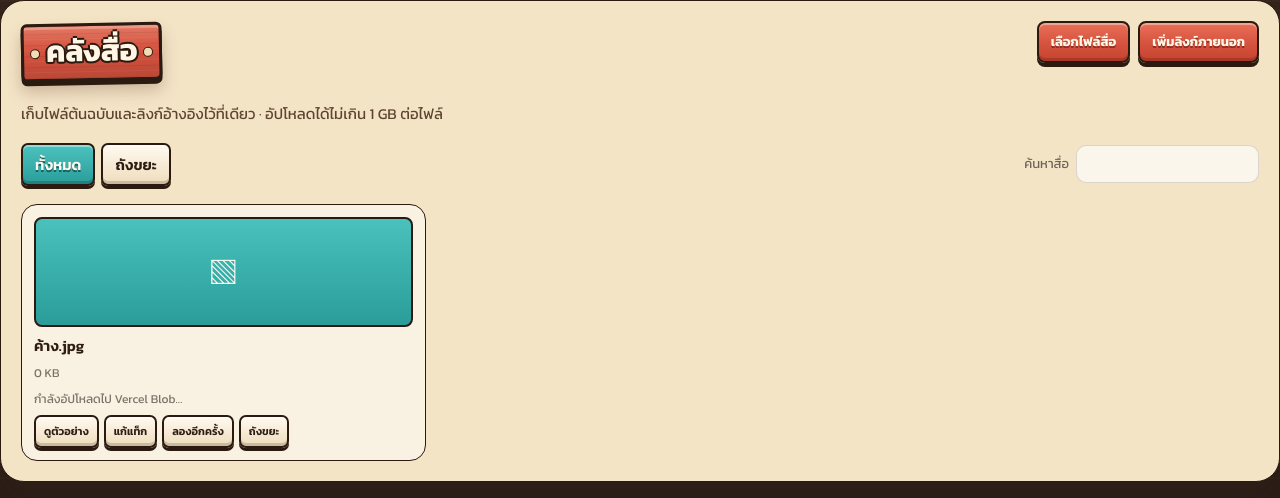
Test: MediaLibraryWorkspace › retries an upload that was persisted as uploading
The width and height of the screenshot is (1280, 498).
Click the button with aria-label "ลองอัปโหลด ค้าง.jpg อีกครั้ง" at (198,432), box [162,415,234,448]
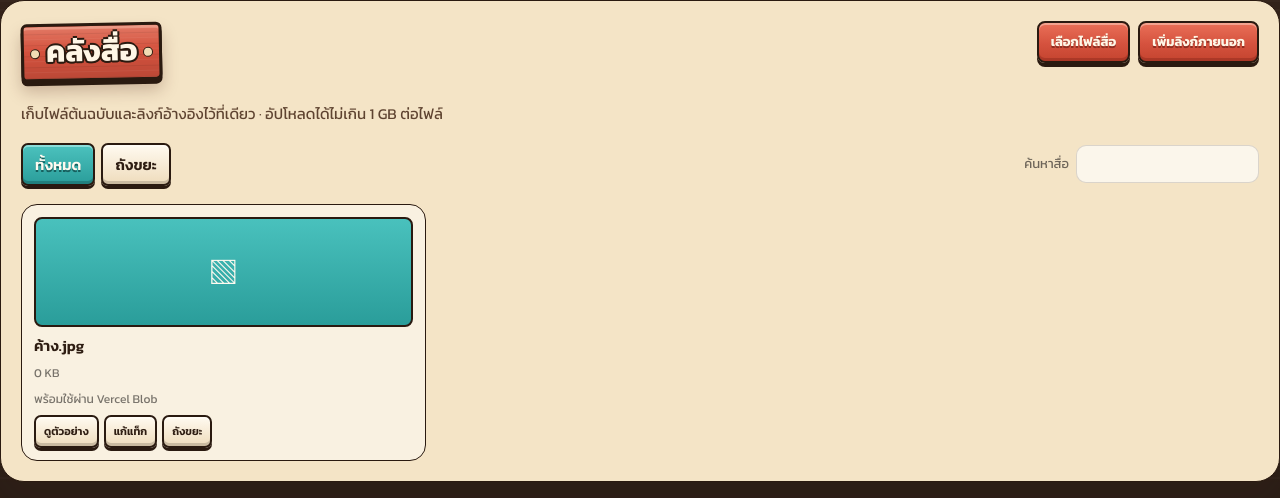
Check: the text "พร้อมใช้ผ่าน Vercel Blob" is shown, box [34,390,157,408]
